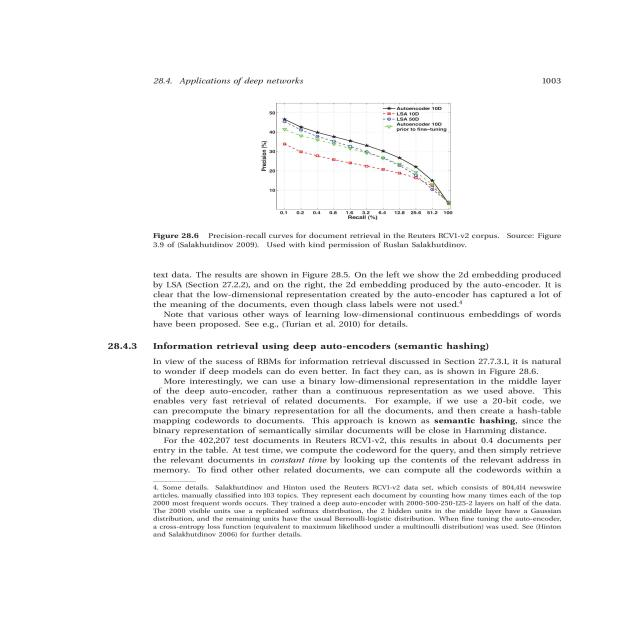diagram: (134, 74, 574, 265)
